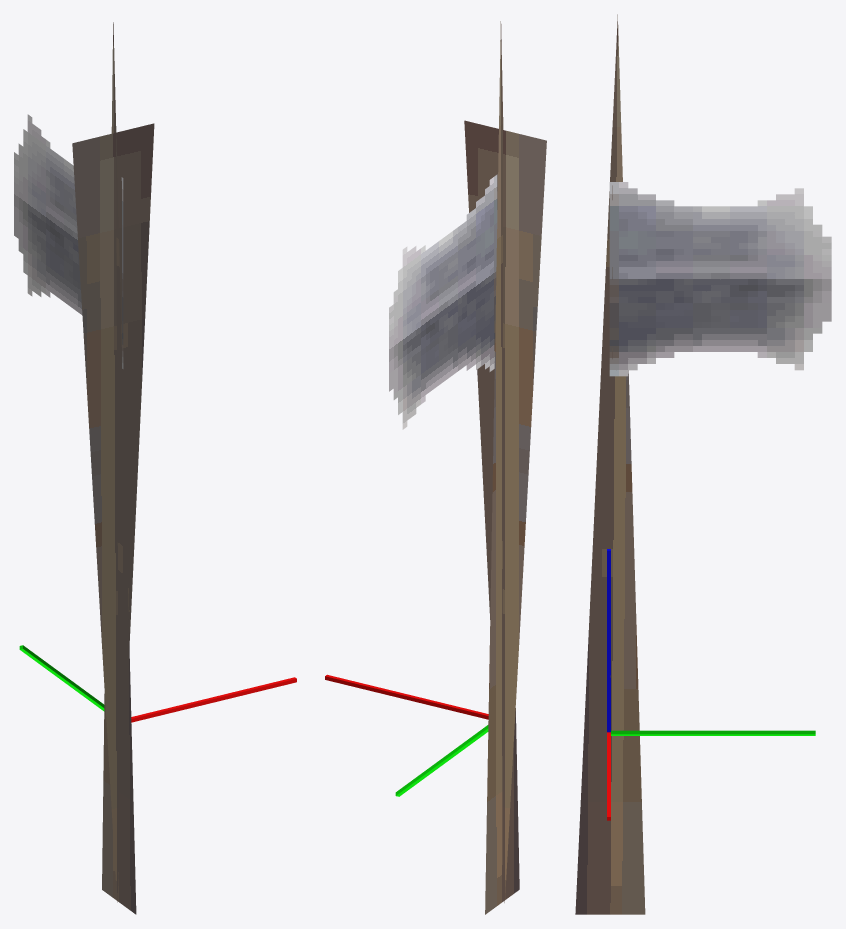
Rendered from axe.glb.
3 views of the same model, side by side, from view 1: azimuth 30°, elevation 25°; view 2: azimuth 150°, elevation 25°; view 3: azimuth 270°, elevation 25° (orthographic).
Visible parts, largest first — view 1: attachments e axe 2handed standardModel, Dummy_hotspot; view 2: attachments e axe 2handed standardModel, Dummy_hotspot; view 3: attachments e axe 2handed standardModel, Dummy_hotspot.
Boxes of the visible parts, <box> form: attachments e axe 2handed standardModel: <box>14,22,154,914</box>; Dummy_hotspot: <box>19,645,296,722</box>; attachments e axe 2handed standardModel: <box>389,21,546,914</box>; Dummy_hotspot: <box>325,674,488,796</box>; attachments e axe 2handed standardModel: <box>575,14,831,914</box>; Dummy_hotspot: <box>607,549,815,820</box>.
Bounding box in the file's own units: 0.3174 × 1.21 × 0.313.
Materials: 2 (1 with a texture image).
